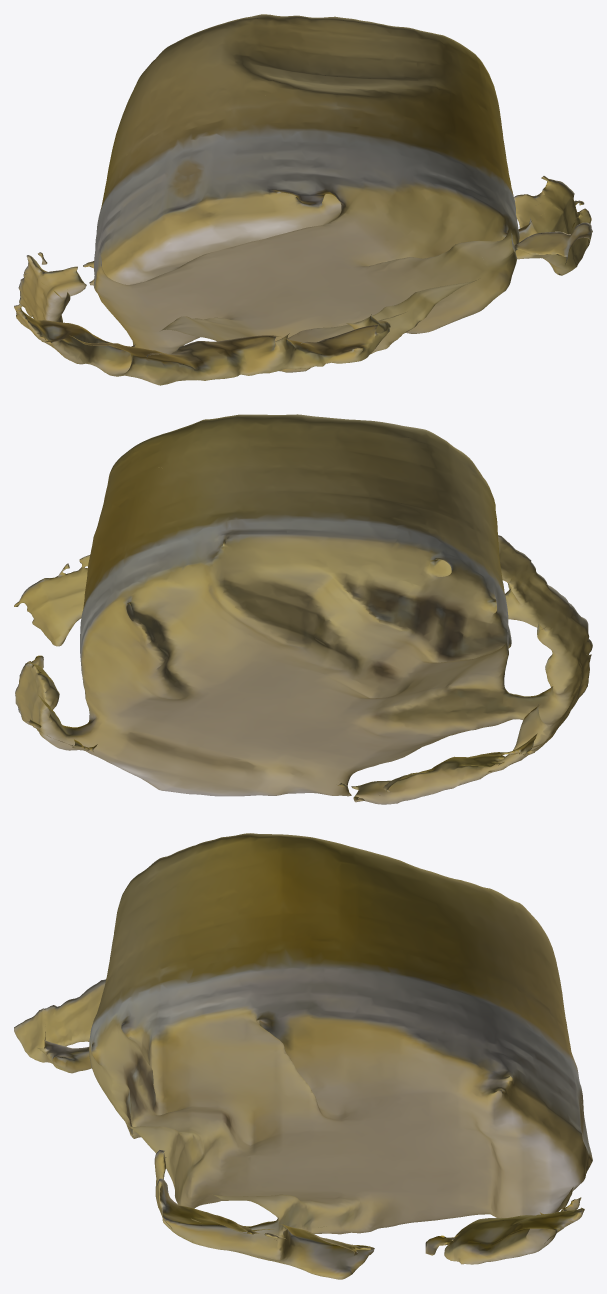
Rendered from hat_ours.glb.
3 views of the same model, one above another, from view 1: azimuth 30°, elevation 25°; view 2: azimuth 150°, elevation 25°; view 3: azimuth 270°, elevation 25° (orthographic). The views are drawn at different scales.
Size of the model in its own units: 1 by 0.4437 by 0.8418.
